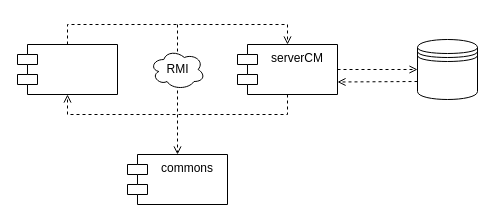
Image size: 495x222. Some labels were removed from this diagram. The centre of each missing label's shape, as x and y in pixels:
"clientCM" belongs at point 67,69.
"dbCM" belongs at point 447,69.
